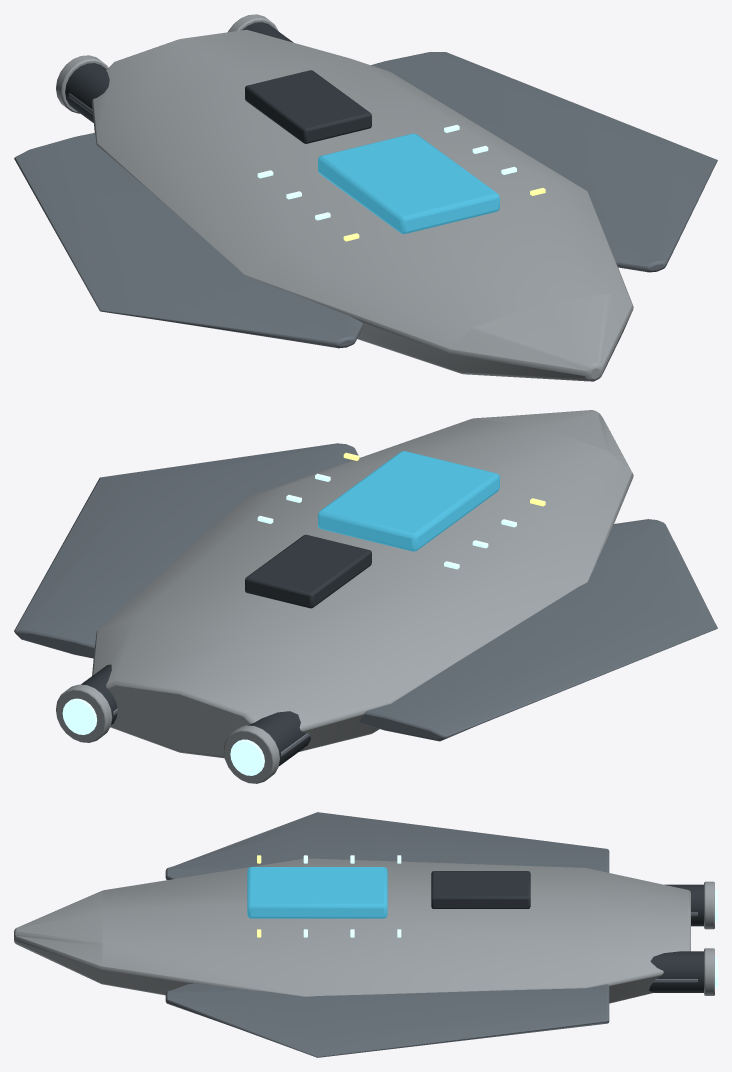
The model's file is QW_EscortWing_LOD0.fbx.
3 views of the same model, one above another, from view 1: azimuth 30°, elevation 25°; view 2: azimuth 150°, elevation 25°; view 3: azimuth 270°, elevation 25° (orthographic). The views are drawn at different scales.
Visible parts, largest first — view 1: QW_EscortWing_LOD0; view 2: QW_EscortWing_LOD0; view 3: QW_EscortWing_LOD0.
Boxes of the visible parts, box(x1,y1,x2,y2) form: QW_EscortWing_LOD0: box(14, 14, 717, 381); QW_EscortWing_LOD0: box(14, 410, 717, 783); QW_EscortWing_LOD0: box(14, 812, 717, 1057).
Size of the model in its own units: 9.95 by 1.67 by 12.06.
